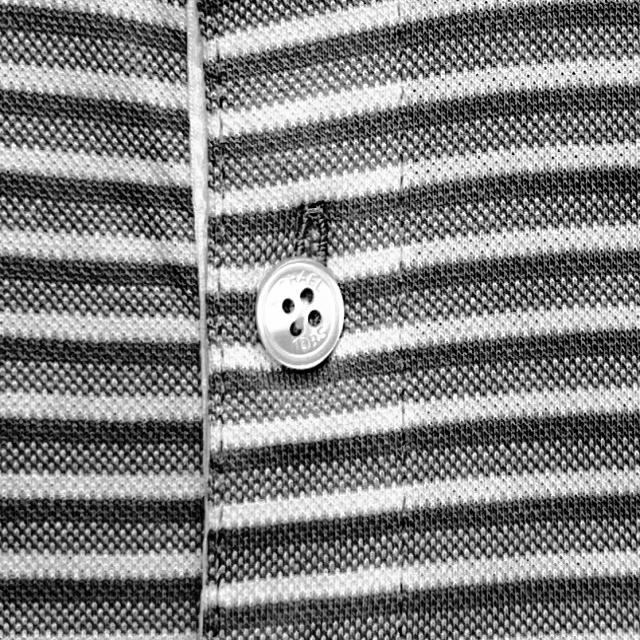Button_hike: (248, 187, 362, 374)
